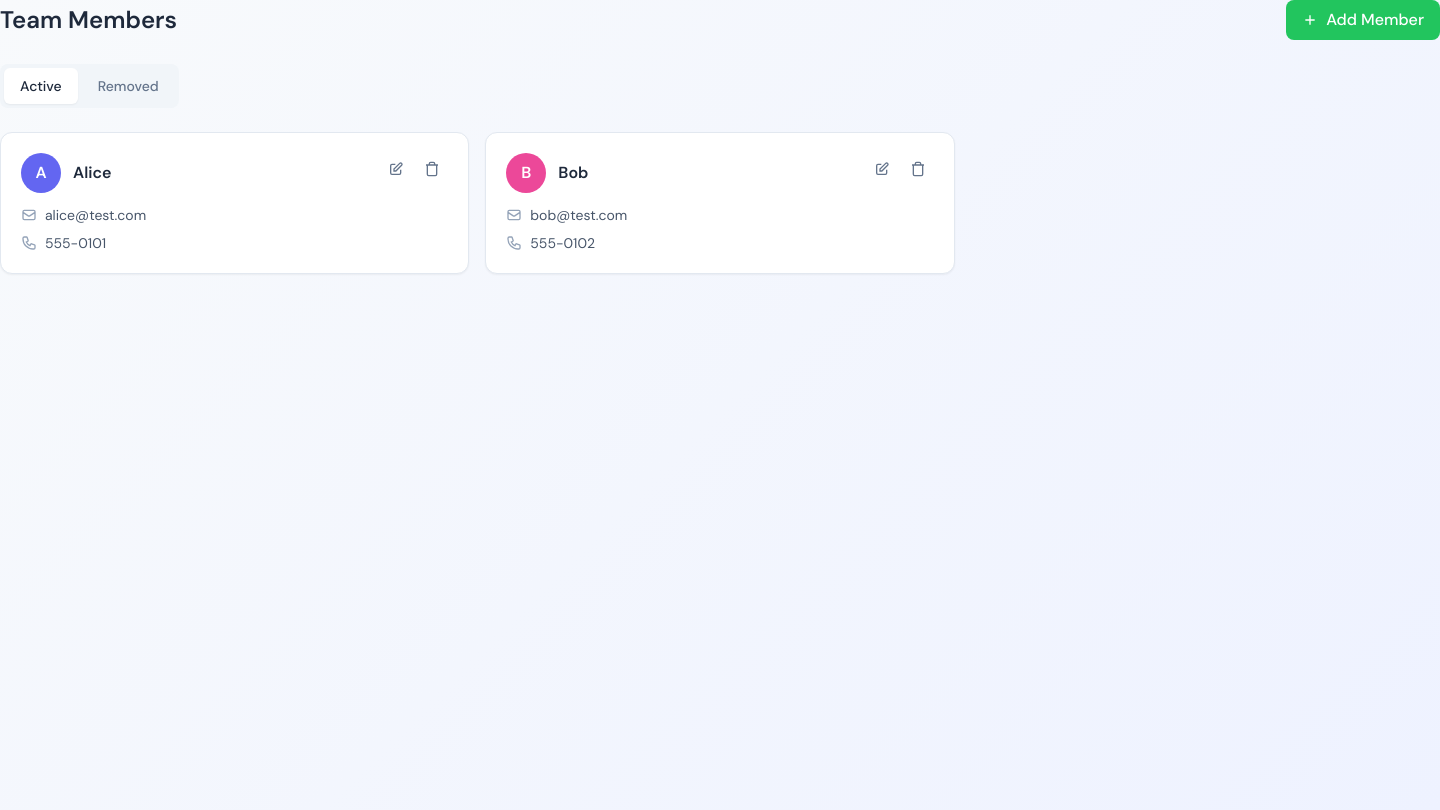
ContactsPage › toast appears after delete with undo button
Expected: the heading "Alice" is shown, [73,161,111,185]
Click the button named "remove". click: (432, 169)
box: [416,153,448,185]
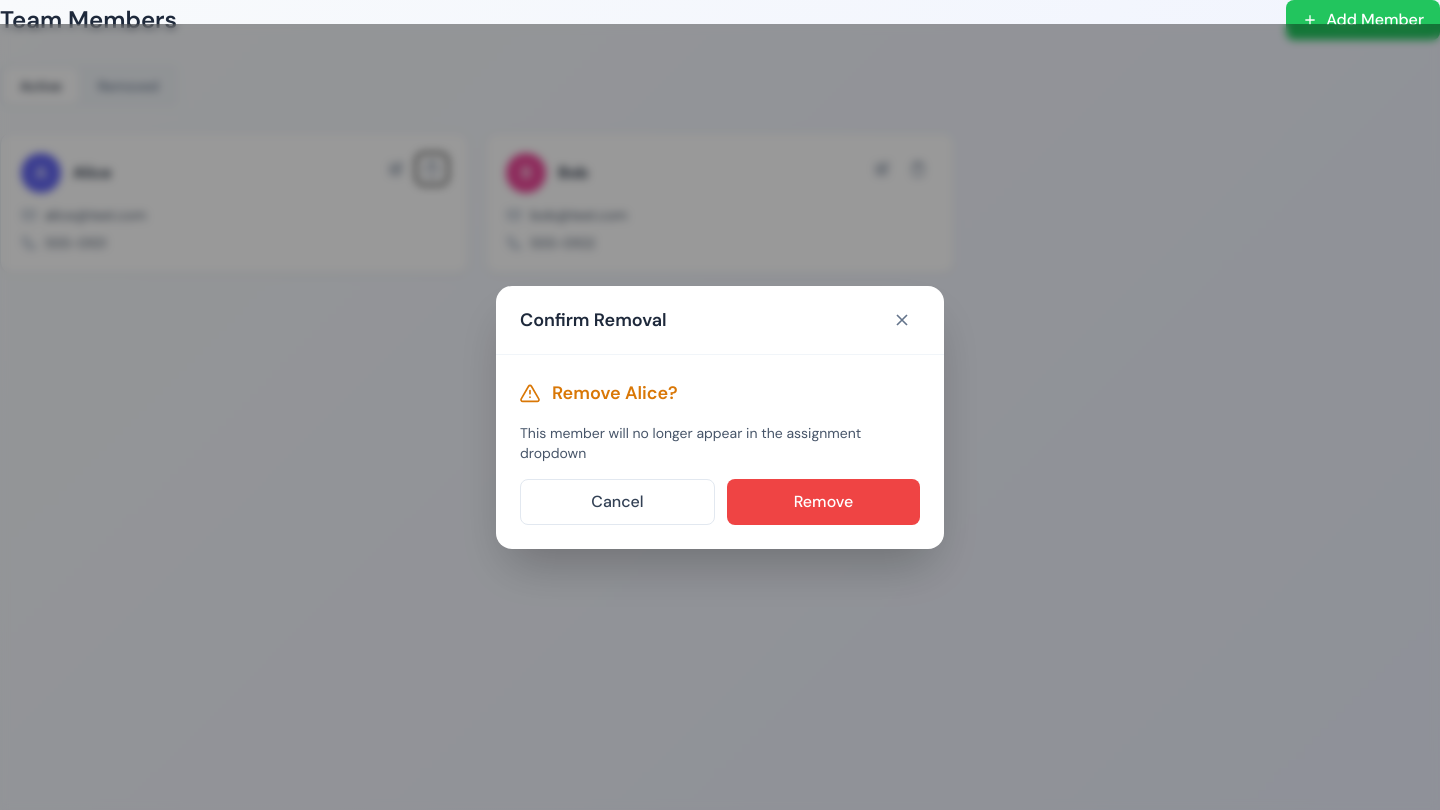
Now the text "Remove Alice?" is shown, box [552,378,678,406]
Click the button "Remove". click: (824, 502)
box: [727,478,920,524]
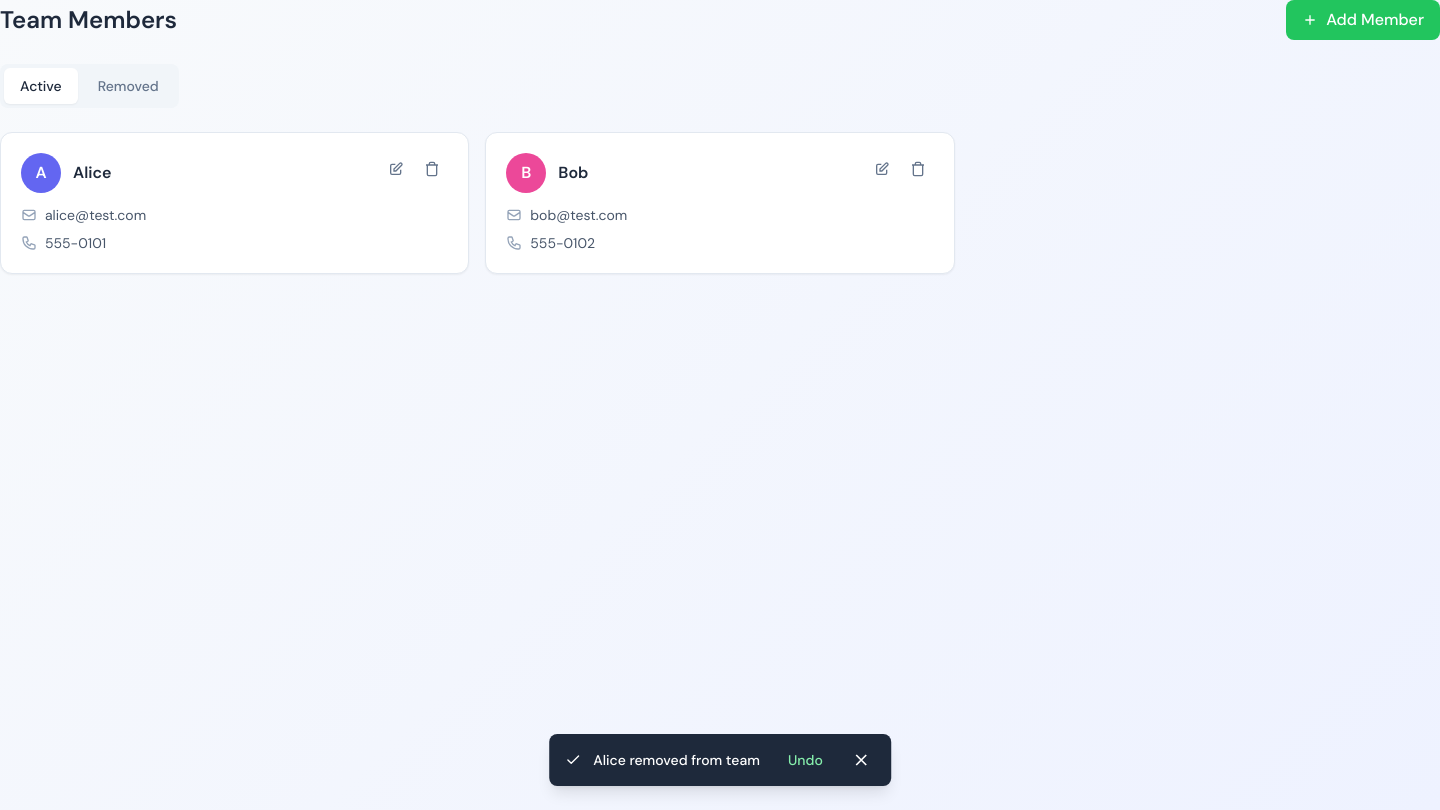
Now the text "Alice removed from team" is shown, box [593,750,760,770]
Now the button "Undo" is shown, box [780,746,831,774]
